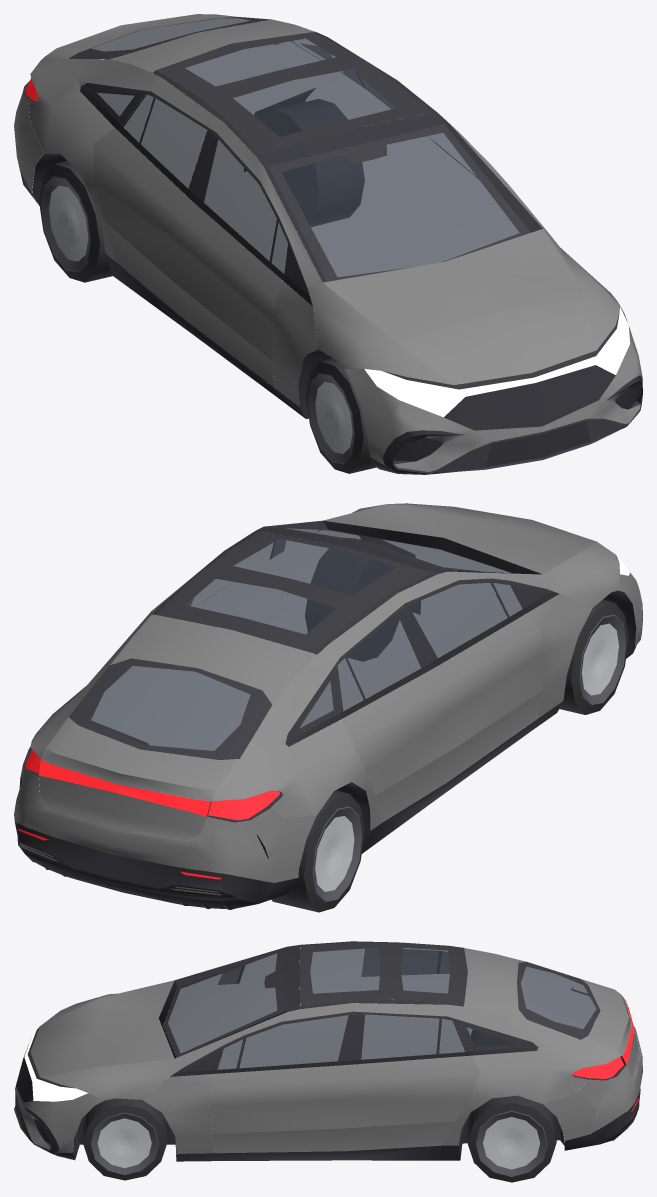
The model's file is mercedes.glb.
3 renders of one model, top to bottom at view 1: azimuth 30°, elevation 25°; view 2: azimuth 150°, elevation 25°; view 3: azimuth 270°, elevation 25°, orthographic. The views are drawn at different scales.
Visible parts, largest first — view 1: paint, glass, body, trim, tyre_RL, headlights, tyre_RR, tyre_FR, rim_metal_RR, rim_metal_FR, rim_dark_RR, rim_dark_FR; view 2: paint, glass, body, trim, tyre_FL, taillights, tyre_RR, tyre_FR, rim_metal_RR, rim_metal_FR, rim_dark_RR, rim_dark_FR; view 3: paint, glass, body, trim, tyre_RL, tyre_FL, rim_metal_RL, rim_metal_FL, rim_dark_RL, rim_dark_FL, headlights, taillights (+1 smaller).
Boxes of the visible parts, bbox=[...] form: paint: bbox=[14, 14, 642, 471]; glass: bbox=[91, 18, 519, 277]; body: bbox=[17, 32, 642, 474]; trim: bbox=[68, 17, 530, 281]; tyre_RL: bbox=[262, 99, 364, 226]; headlights: bbox=[364, 307, 630, 417]; tyre_RR: bbox=[39, 160, 112, 282]; tyre_FR: bbox=[305, 358, 376, 473]; rim_metal_RR: bbox=[49, 185, 88, 261]; rim_metal_FR: bbox=[315, 382, 352, 453]; rim_dark_RR: bbox=[41, 176, 90, 272]; rim_dark_FR: bbox=[308, 373, 354, 464]; paint: bbox=[14, 503, 642, 895]; glass: bbox=[90, 528, 522, 750]; body: bbox=[15, 520, 642, 909]; trim: bbox=[69, 527, 489, 759]; tyre_FL: bbox=[305, 547, 399, 661]; taillights: bbox=[18, 749, 280, 879]; tyre_RR: bbox=[271, 790, 364, 912]; tyre_FR: bbox=[559, 600, 628, 714]; rim_metal_RR: bbox=[315, 816, 354, 891]; rim_metal_FR: bbox=[581, 623, 618, 695]; rim_dark_RR: bbox=[312, 806, 362, 902]; rim_dark_FR: bbox=[579, 614, 626, 705]; paint: bbox=[15, 948, 642, 1153]; glass: bbox=[168, 947, 596, 1069]; body: bbox=[14, 941, 640, 1161]; trim: bbox=[163, 942, 600, 1057]; tyre_RL: bbox=[467, 1095, 556, 1182]; tyre_FL: bbox=[82, 1098, 167, 1180]; rim_metal_RL: bbox=[483, 1117, 540, 1169]; rim_metal_FL: bbox=[97, 1118, 151, 1168]; rim_dark_RL: bbox=[475, 1110, 547, 1177]; rim_dark_FL: bbox=[90, 1112, 158, 1175]; headlights: bbox=[24, 1030, 88, 1101]; taillights: bbox=[572, 1001, 638, 1111].
Bounding box in the file's own units: 1.92 × 1.54 × 5.21.
